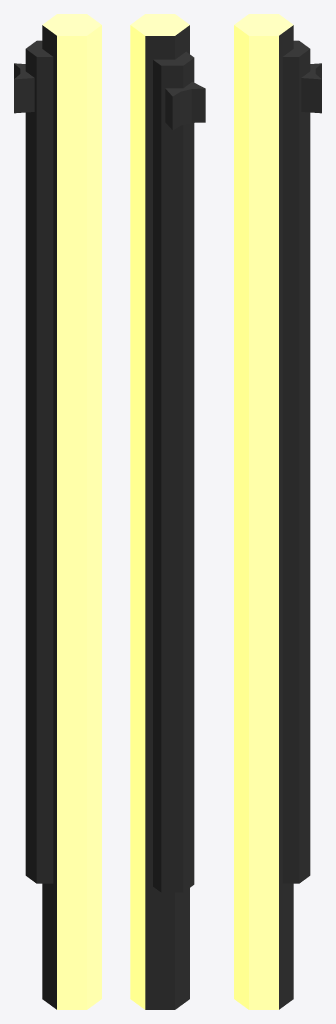
Rendered from lamp_8.glb.
The picture shows the model from 3 angles, left to right: view 1: azimuth 90°, elevation 25°; view 2: azimuth 210°, elevation 25°; view 3: azimuth 270°, elevation 25°; orthographic projection.
Parts seen in each view (by area): view 1: Tripod Light 1; view 2: Tripod Light 1; view 3: Tripod Light 1.
Part boxes in pixels (bbox=[...]): Tripod Light 1: bbox=[14, 14, 101, 1009]; Tripod Light 1: bbox=[130, 14, 205, 1009]; Tripod Light 1: bbox=[234, 14, 321, 1009].
Size of the model in its own units: 0.0427 by 0.8863 by 0.0725.
Materials: 2 (1 with a texture image).
